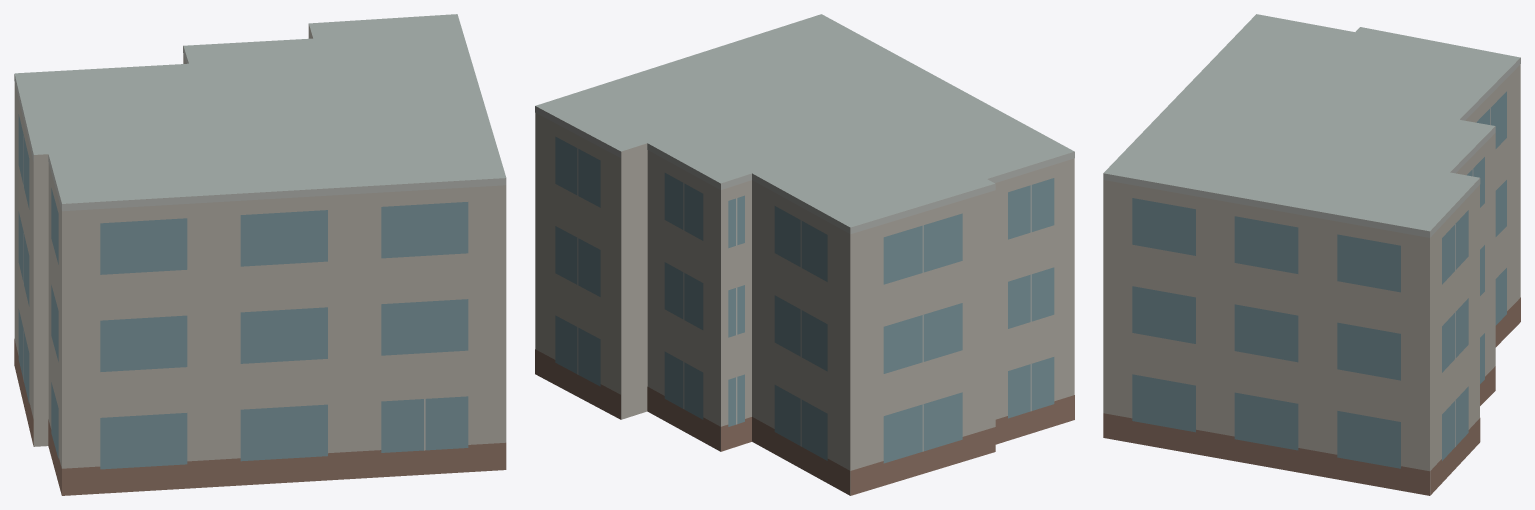
The model's file is survey-upis-32816466.glb.
The picture shows the model from 3 angles, left to right: view 1: azimuth 30°, elevation 25°; view 2: azimuth 150°, elevation 25°; view 3: azimuth 270°, elevation 25°; orthographic projection. The views are drawn at different scales.
Parts seen in each view (by area): view 1: survey-upis-32816466.tmp; view 2: survey-upis-32816466.tmp; view 3: survey-upis-32816466.tmp.
Part boxes in pixels (bbox=[...]): survey-upis-32816466.tmp: bbox=[14, 14, 506, 495]; survey-upis-32816466.tmp: bbox=[535, 14, 1074, 495]; survey-upis-32816466.tmp: bbox=[1103, 14, 1520, 495].
Size of the model in its own units: 17.28 by 9.8 by 14.03.
